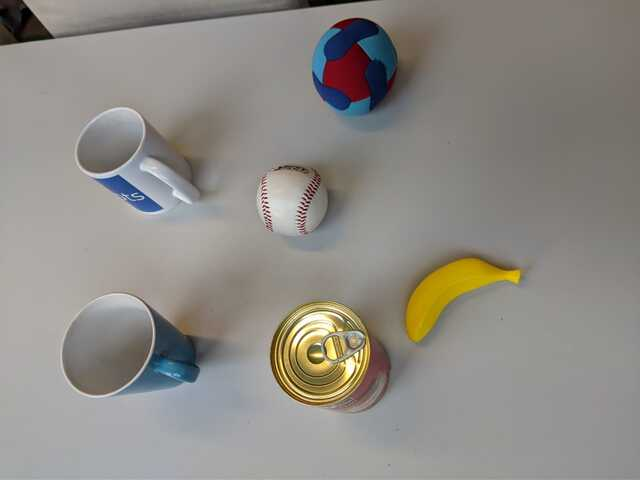005_tomato_soup_can: (266, 300, 393, 414)
011_banana: (401, 255, 523, 342)
025_mug: (57, 292, 202, 400), (75, 107, 204, 215)
055_baseball: (255, 164, 333, 236)
057_racquetball: (311, 18, 402, 116)
